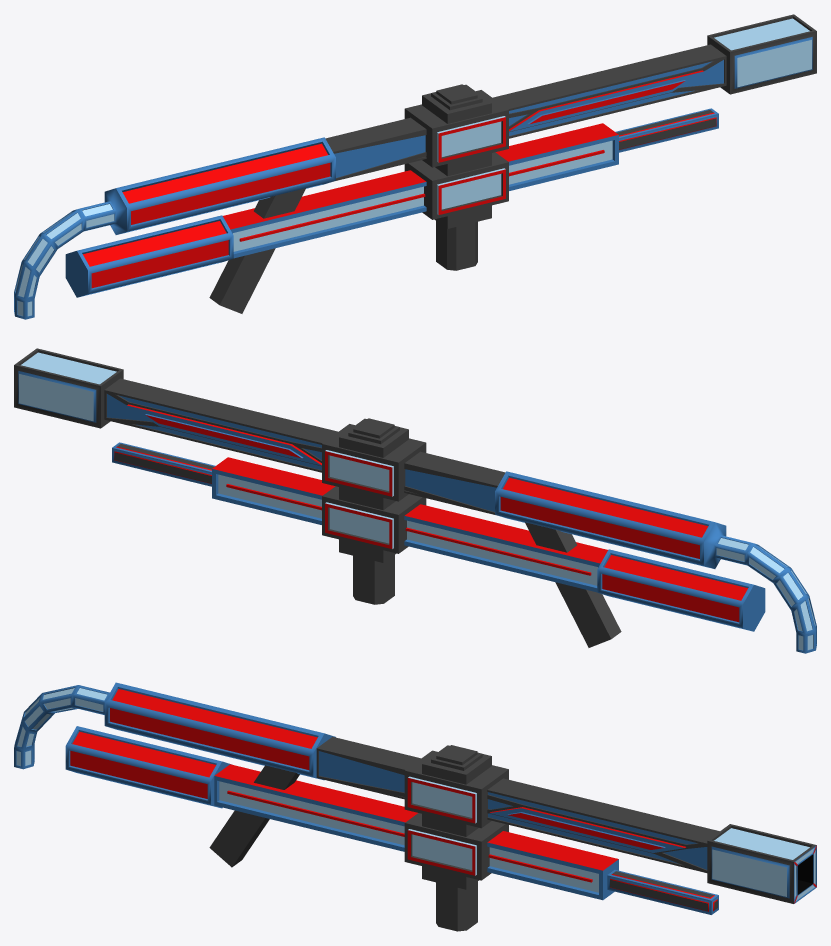
Rendered from LanceFlamme.fbx.
3 views of the same model, one above another, from view 1: azimuth 30°, elevation 25°; view 2: azimuth 150°, elevation 25°; view 3: azimuth 330°, elevation 25° (orthographic).
Visible parts, largest first — view 1: Cube_2, Cube, Cylindre, Cylindre_1, Cube_1, Cube_4, Cube_6, Cube_5; view 2: Cube_2, Cube, Cylindre, Cylindre_1, Cube_1, Cube_4, Cube_6, Cube_5; view 3: Cube_2, Cube, Cylindre, Cylindre_1, Cube_1, Cube_4, Cube_6, Cube_5.
Boxes of the visible parts, x1,y1,x2,y2 form: Cube_2: [325, 14, 816, 180]; Cube: [223, 108, 718, 258]; Cylindre: [14, 137, 335, 319]; Cylindre_1: [65, 215, 233, 297]; Cube_1: [422, 84, 491, 270]; Cube_4: [404, 90, 508, 167]; Cube_6: [404, 152, 508, 219]; Cube_5: [209, 188, 305, 313]; Cube_2: [14, 348, 505, 514]; Cube: [112, 442, 607, 592]; Cylindre: [495, 471, 816, 653]; Cylindre_1: [597, 549, 765, 631]; Cube_1: [339, 418, 408, 604]; Cube_4: [322, 424, 426, 501]; Cube_6: [322, 486, 426, 553]; Cube_5: [525, 522, 621, 647]; Cube_2: [316, 736, 816, 903]; Cube: [214, 764, 718, 914]; Cylindre: [14, 682, 335, 780]; Cylindre_1: [65, 726, 231, 808]; Cube_1: [422, 745, 491, 931]; Cube_4: [404, 750, 508, 828]; Cube_6: [404, 813, 508, 880]; Cube_5: [209, 765, 299, 867].
Bounding box in the file's own units: 117 × 23.98 × 7.89.
